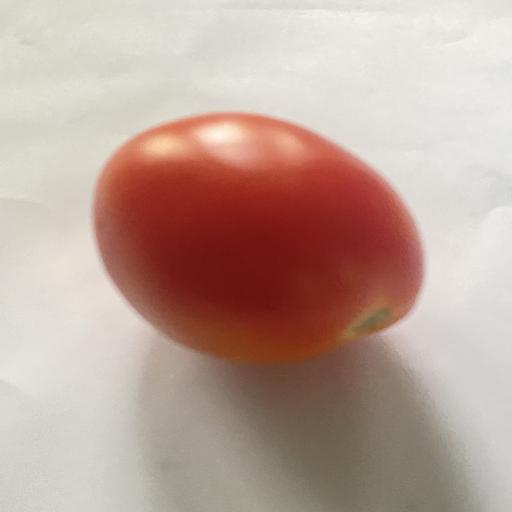ripe: (94, 113, 423, 363)
